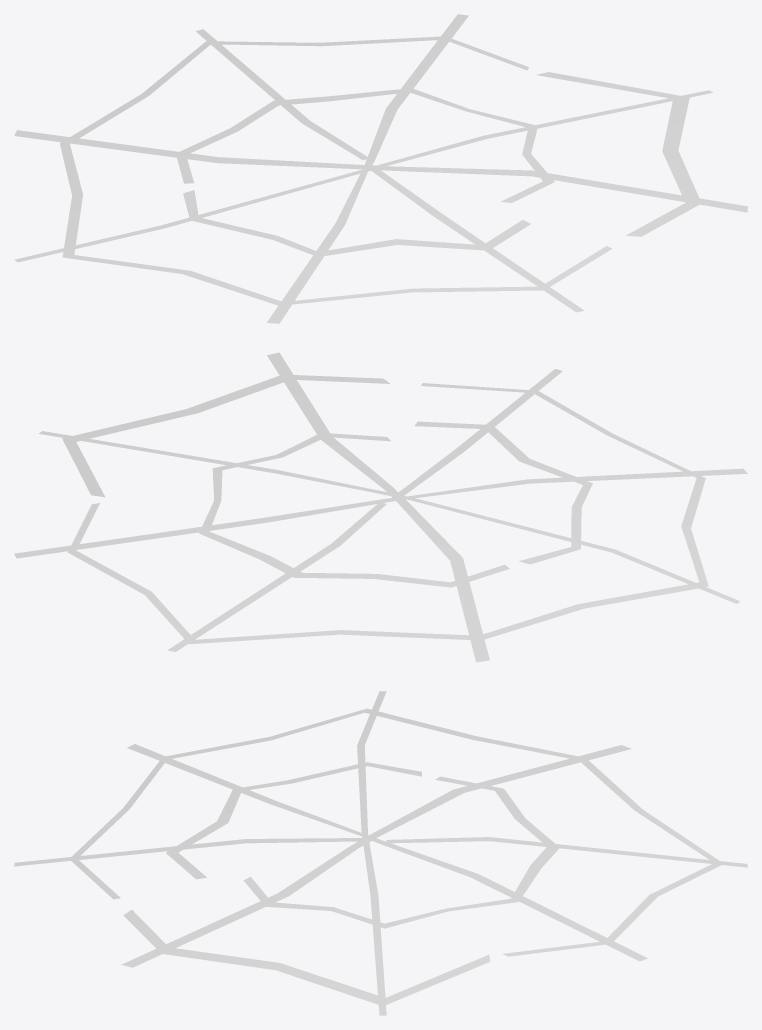
Rendered from Cobweb_01.FBX.
3 views of the same model, one above another, from view 1: azimuth 30°, elevation 25°; view 2: azimuth 150°, elevation 25°; view 3: azimuth 270°, elevation 25° (orthographic). The views are drawn at different scales.
Parts seen in each view (by area): view 1: Cobweb_01; view 2: Cobweb_01; view 3: Cobweb_01.
Part boxes in pixels (box(x1,y1,x2,y2)): Cobweb_01: box(14, 14, 747, 323); Cobweb_01: box(14, 352, 747, 662); Cobweb_01: box(14, 691, 747, 1015).
Size of the model in its own units: 44.91 by 0.949 by 42.93.
